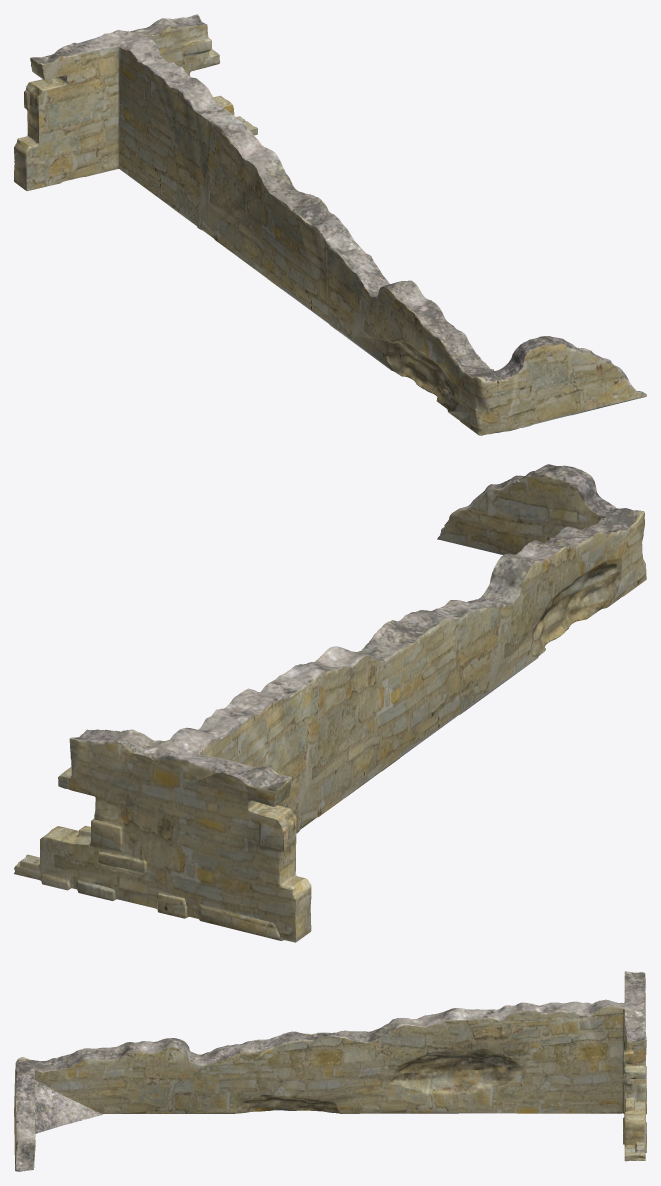
Rendered from ruin_corner.glb.
3 views of the same model, one above another, from view 1: azimuth 30°, elevation 25°; view 2: azimuth 150°, elevation 25°; view 3: azimuth 270°, elevation 25° (orthographic). The views are drawn at different scales.
Visible parts, largest first — view 1: Var5_3; view 2: Var5_3; view 3: Var5_3.
Boxes of the visible parts, x1,y1,x2,y2 form: Var5_3: (14, 14, 646, 435); Var5_3: (14, 464, 646, 942); Var5_3: (14, 971, 646, 1171).
Bounding box in the file's own units: 2.03 × 1 × 5.2.
1 material, 1 textured.
